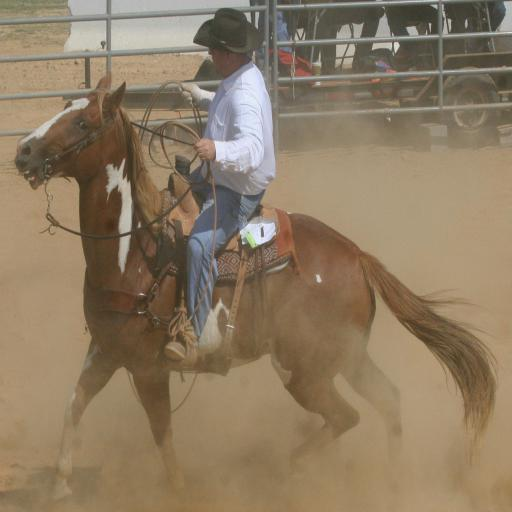horse: (12, 70, 501, 504)
